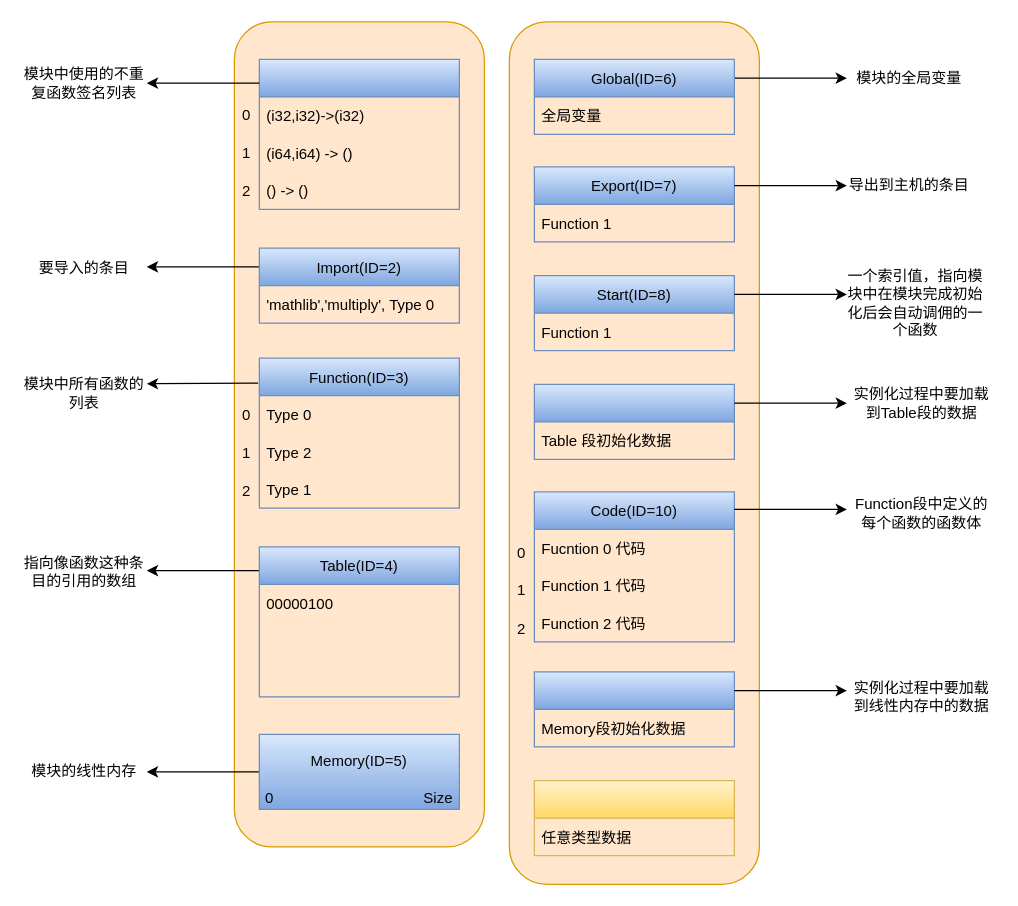
This 1018x906 diagram has some shape labels left out. Each missing label, with the box of its shape:
Data(ID=11): (533, 671, 734, 747)
Element(ID=9): (533, 383, 734, 459)
Type(ID=1): (258, 58, 459, 209)
自定义段(ID=0): (533, 779, 734, 856)
